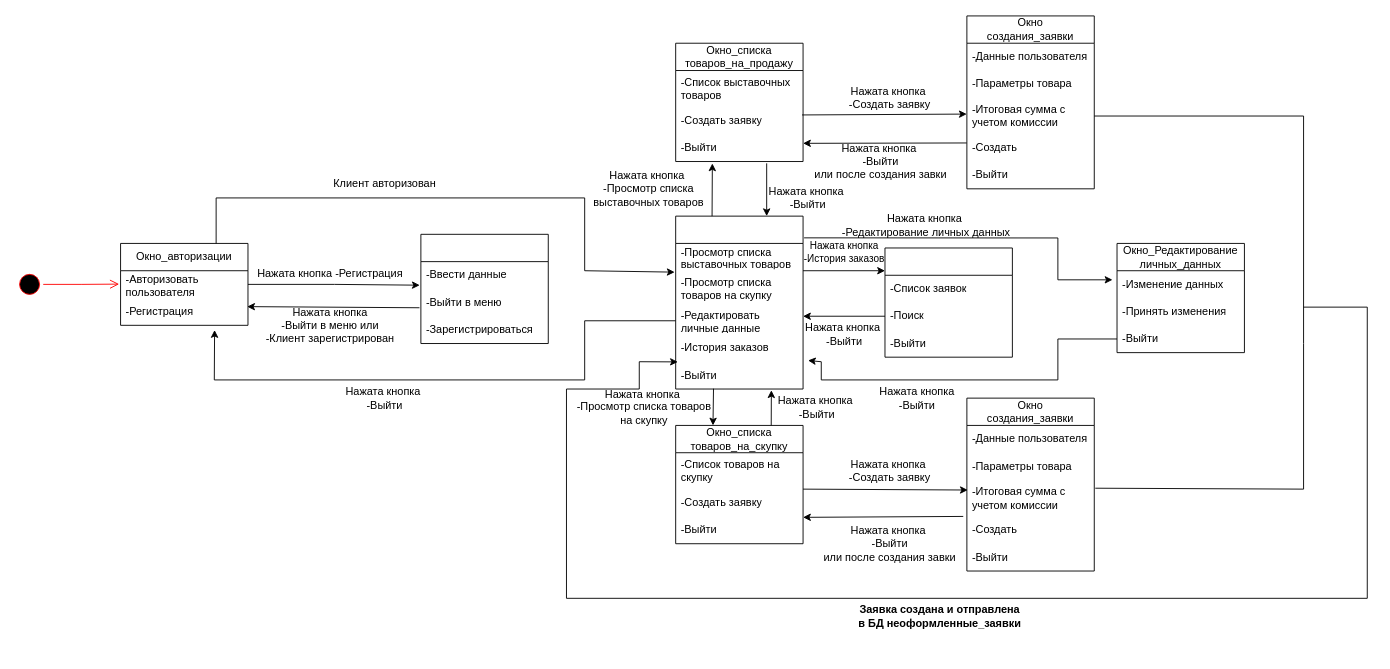
Some shapes in this 1390 by 669 pixel diagram are drawn without their labels. The shapes that lost their labels are listed below. From the top down, each one's box as (x1, y1, x2, y2) in pixels, then its label:
(420, 233, 548, 344): Окно_регистрация
(675, 215, 803, 389): Окно_выбора действий_клиента
(884, 247, 1012, 357): Окно история_заявок
